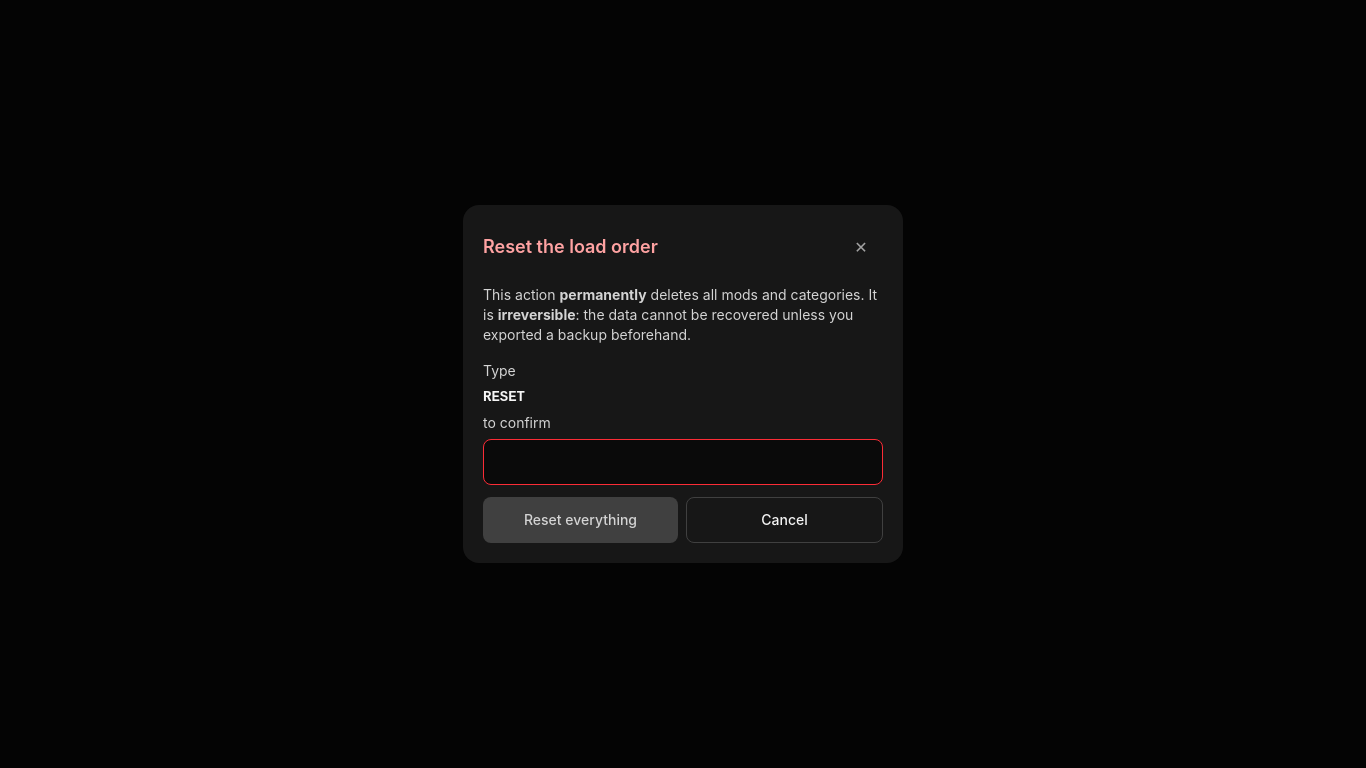
Scenario: ResetConfirmModal › accepts the confirmation word regardless of case
The image size is (1366, 768).
Type "reset" into the field labelled "Type RESET to confirm" at (683, 462), box [483,439,883,485]
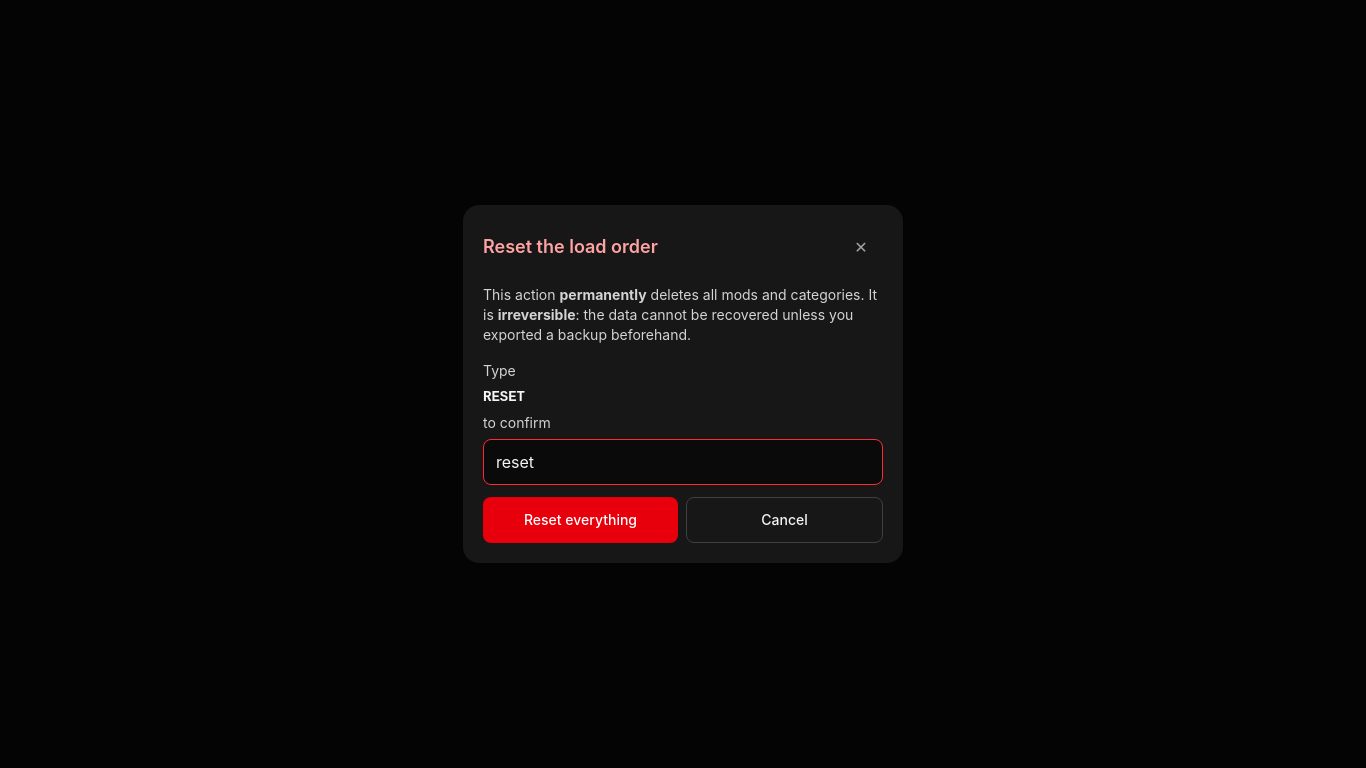
Expected: the button "Reset everything" is enabled, [483,497,678,543]
